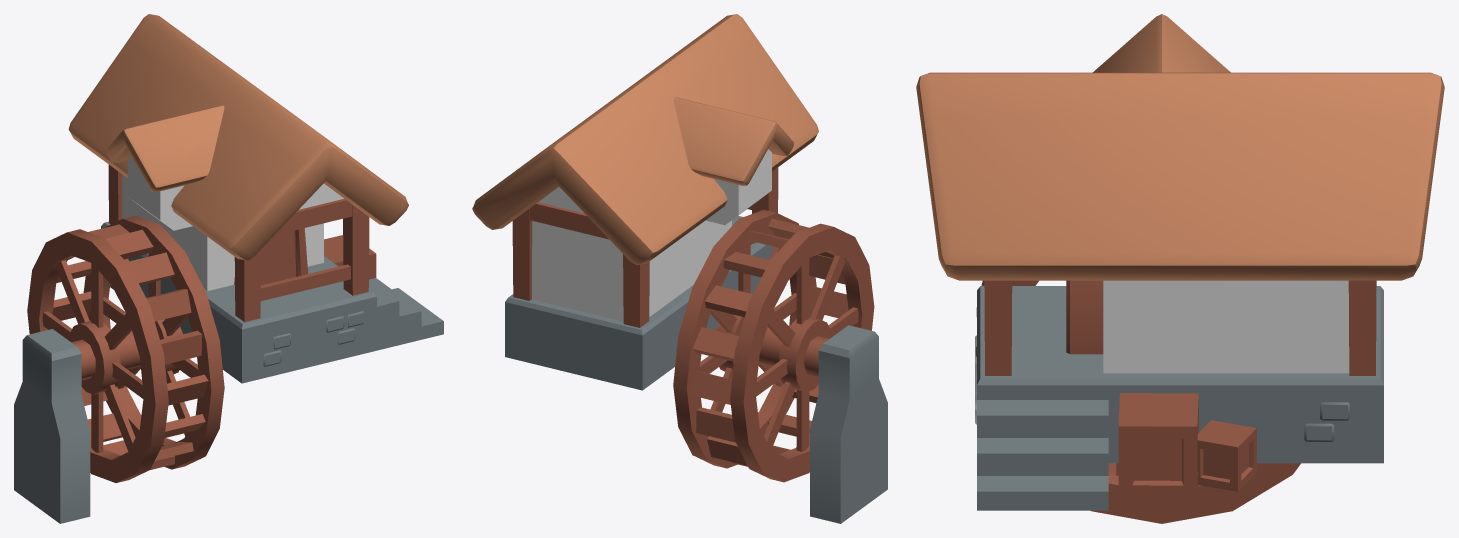
File: watermill.glb
The picture shows the model from 3 angles, left to right: view 1: azimuth 30°, elevation 25°; view 2: azimuth 150°, elevation 25°; view 3: azimuth 270°, elevation 25°; orthographic projection. The views are drawn at different scales.
Parts seen in each view (by area): view 1: Cube.403, watermill_wheel; view 2: Cube.403, watermill_wheel; view 3: Cube.403, watermill_wheel.
Boxes of the visible parts, x1,y1,x2,y2 form: Cube.403: [14, 14, 443, 523]; watermill_wheel: [27, 215, 224, 482]; Cube.403: [472, 14, 887, 523]; watermill_wheel: [673, 209, 874, 482]; Cube.403: [916, 14, 1444, 510]; watermill_wheel: [976, 280, 1300, 523].
Bounding box in the file's own units: 6.14 × 6.39 × 5.68.
